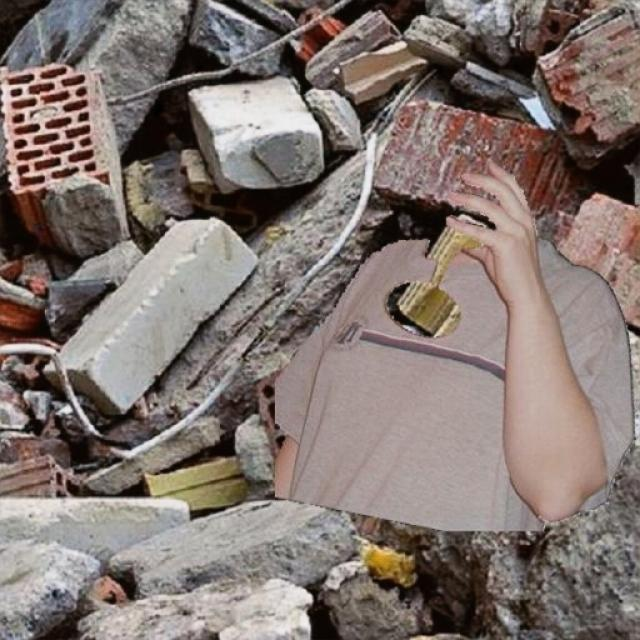Person in Rubble: (275, 161, 635, 530)
